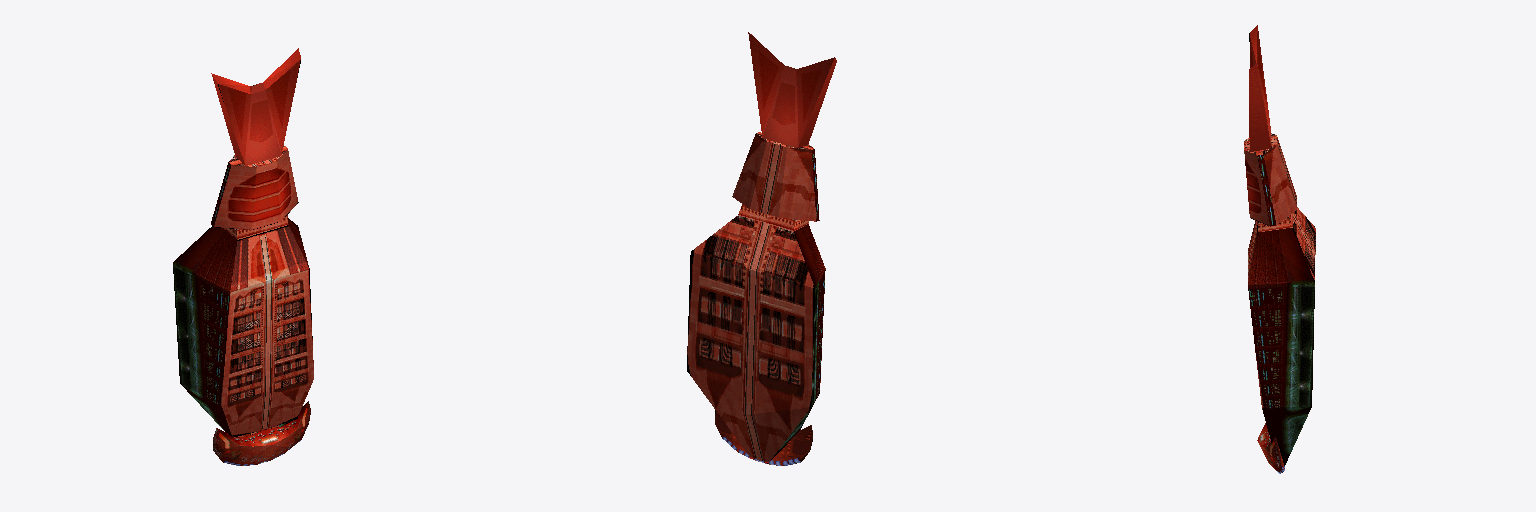
3 renders of one model, left to right at view 1: azimuth 30°, elevation 25°; view 2: azimuth 150°, elevation 25°; view 3: azimuth 270°, elevation 25°, orthographic.
Parts seen in each view (by area): view 1: F_Tomax_1; view 2: F_Tomax_1; view 3: F_Tomax_1.
Boxes of the visible parts, x1,y1,x2,y2 form: F_Tomax_1: [173, 48, 313, 465]; F_Tomax_1: [687, 32, 836, 465]; F_Tomax_1: [1244, 25, 1315, 473].
Size of the model in its own units: 1.28 by 3.92 by 0.6095.
1 materials, 1 textured.